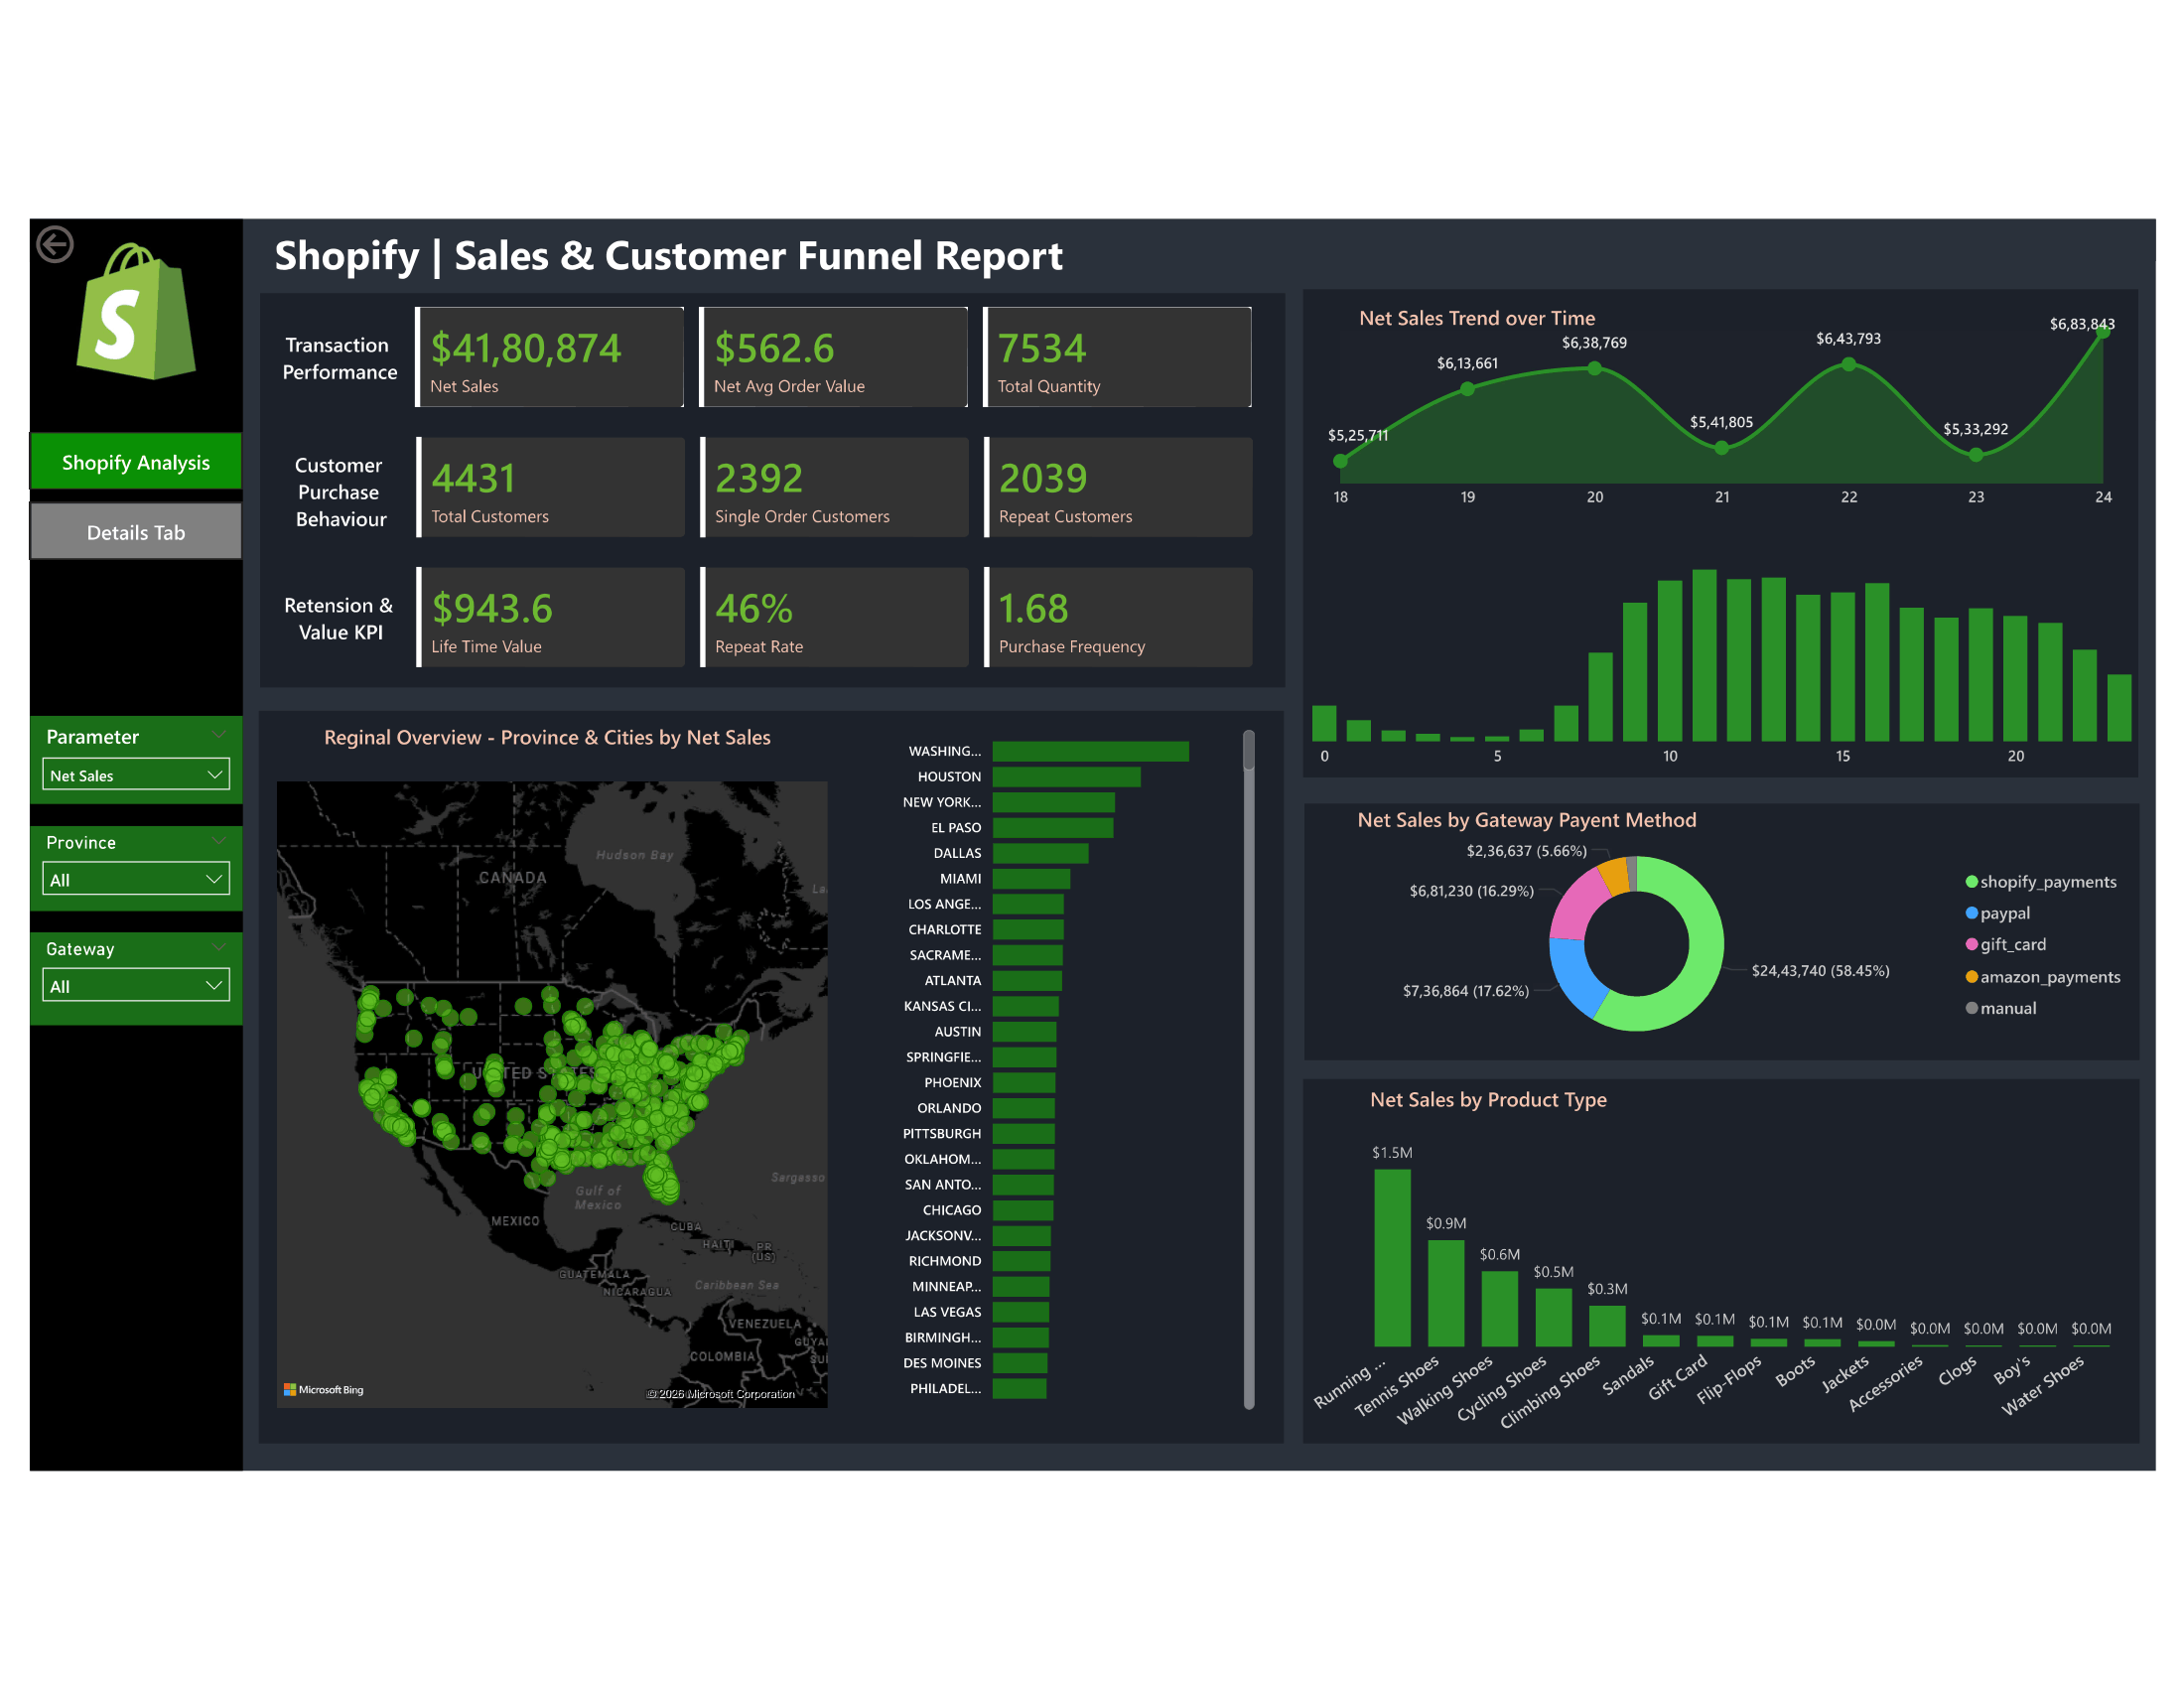

The dashboard page shown, as its layout file describes it:
{"tool":"powerbi","page":{"name":"Shopify Analysis","canvas":[1700,1000],"ordinal":0},"visuals":[{"type":"shape","box":[0,0,170,1000],"z":0},{"type":"textbox","box":[184.3,0,653.5,58.6],"z":1000},{"type":"shape","box":[184,59,820,315],"z":2000},{"type":"cardVisual","fields":{"Data":["shopify_sales.Net Sales","shopify_sales.Net Avg Order Value","shopify_sales.Total Quantity"]},"box":[303.3,65,680,90],"z":3000},{"type":"card","fields":{"Values":["shopify_sales.Transaction perf"]},"box":[193.3,73.3,110,73.3],"z":4000},{"type":"cardVisual","fields":{"Data":["shopify_sales.Total Customers","shopify_sales.Single Order Customers","shopify_sales.Repeat Customers"]},"box":[303.8,168.8,680,90],"z":5000},{"type":"card","fields":{"Values":["shopify_sales.customer perchase behaviour"]},"box":[193.8,168.8,110,90],"z":6000},{"type":"cardVisual","fields":{"Data":["shopify_sales.Life Time Value","shopify_sales.Repeat Rate","shopify_sales.Purchase Frequency"]},"box":[303.8,272.5,680,90],"z":7000},{"type":"card","fields":{"Values":["shopify_sales.Retension & Value KPI"]},"box":[193.8,272.5,110,90],"z":8000},{"type":"shape","box":[183.3,393.3,820,585],"z":9000},{"type":"map","fields":{"Category":["shopify_sales.Location"]},"box":[193.3,445,450,510],"z":10000},{"type":"actionButton","box":[0,0,100,40],"z":11000},{"type":"slicer","fields":{"Values":["Parameter.Parameter"]},"box":[0,396.7,170,70],"z":12000},{"type":"slicer","fields":{"Values":["shopify_sales.Billing Address Province"]},"box":[0,485,170,68.3],"z":13000},{"type":"clusteredBarChart","fields":{"Y":["shopify_sales.Net Sales"],"Category":["shopify_sales.CITY"]},"box":[682,396,302,560],"z":14000},{"type":"card","fields":{"Values":["shopify_sales.Map Title"]},"box":[185,393.3,458.3,45],"z":15000},{"type":"shape","box":[1018,56,668,390],"z":16000},{"type":"areaChart","fields":{"Y":["shopify_sales.Net Sales"],"Category":["shopify_sales.Invoice Date.Variation.Date Hierarchy.Day"]},"box":[1032.5,65.1,640.4,174.7],"z":17000},{"type":"columnChart","fields":{"Y":["shopify_sales.Net Sales"],"Category":["shopify_sales.Hour"]},"box":[1018.8,251.7,667.8,195.2],"z":18000},{"type":"card","fields":{"Values":["shopify_sales.Trend Title"]},"box":[1018.8,56.5,277.4,47.9],"z":19000},{"type":"shape","box":[1018.8,467.5,667.8,205],"z":20000},{"type":"donutChart","fields":{"Y":["shopify_sales.Net Sales"],"Category":["shopify_sales.Gateway"]},"box":[1018.3,485,668.3,188.3],"z":21000},{"type":"card","fields":{"Values":["shopify_sales.Gateway Title"]},"box":[1018.3,463.3,358.3,36.7],"z":22000},{"type":"shape","box":[1018.3,686.7,668.3,291.7],"z":23000},{"type":"clusteredColumnChart","fields":{"Y":["shopify_sales.Net Sales"],"Category":["shopify_sales.Product Type"]},"box":[1018,718,668,266],"z":24000},{"type":"card","fields":{"Values":["shopify_sales.Product Title"]},"box":[1018.9,686.7,295.6,36.7],"z":25000},{"type":"image","box":[22.3,18.8,126.7,109.6],"z":26000},{"type":"slicer","fields":{"Values":["shopify_sales.Gateway"]},"box":[0,570.2,169.5,73.6],"z":27000},{"type":"pageNavigator","box":[0,170,170,102.2],"z":27001}]}

Visuals, with their boxes on the page's 1700x1000 design canvas (x1, y1, x2, y2). These are canvas units, not pixel positions in the 2184x1688 screenshot, which may show the page scaled, cropped or inside an application window:
shape: bbox=(0, 0, 170, 1000)
textbox: bbox=(184, 0, 838, 59)
shape: bbox=(184, 59, 1004, 374)
cardVisual - shopify_sales.Net Sales x shopify_sales.Net Avg Order Value: bbox=(303, 65, 983, 155)
card - shopify_sales.Transaction perf: bbox=(193, 73, 303, 147)
cardVisual - shopify_sales.Total Customers x shopify_sales.Single Order Customers: bbox=(304, 169, 984, 259)
card - shopify_sales.customer perchase behaviour: bbox=(194, 169, 304, 259)
cardVisual - shopify_sales.Life Time Value x shopify_sales.Repeat Rate: bbox=(304, 272, 984, 362)
card - shopify_sales.Retension & Value KPI: bbox=(194, 272, 304, 362)
shape: bbox=(183, 393, 1003, 978)
map - shopify_sales.Location: bbox=(193, 445, 643, 955)
actionButton: bbox=(0, 0, 100, 40)
slicer - Parameter.Parameter: bbox=(0, 397, 170, 467)
slicer - shopify_sales.Billing Address Province: bbox=(0, 485, 170, 553)
clusteredBarChart - shopify_sales.Net Sales x shopify_sales.CITY: bbox=(682, 396, 984, 956)
card - shopify_sales.Map Title: bbox=(185, 393, 643, 438)
shape: bbox=(1018, 56, 1686, 446)
areaChart - shopify_sales.Net Sales x shopify_sales.Invoice Date.Variation.Date Hierarchy.Day: bbox=(1032, 65, 1673, 240)
columnChart - shopify_sales.Net Sales x shopify_sales.Hour: bbox=(1019, 252, 1687, 447)
card - shopify_sales.Trend Title: bbox=(1019, 56, 1296, 104)
shape: bbox=(1019, 468, 1687, 672)
donutChart - shopify_sales.Net Sales x shopify_sales.Gateway: bbox=(1018, 485, 1687, 673)
card - shopify_sales.Gateway Title: bbox=(1018, 463, 1377, 500)
shape: bbox=(1018, 687, 1687, 978)
clusteredColumnChart - shopify_sales.Net Sales x shopify_sales.Product Type: bbox=(1018, 718, 1686, 984)
card - shopify_sales.Product Title: bbox=(1019, 687, 1314, 723)
image: bbox=(22, 19, 149, 128)
slicer - shopify_sales.Gateway: bbox=(0, 570, 170, 644)
pageNavigator: bbox=(0, 170, 170, 272)
